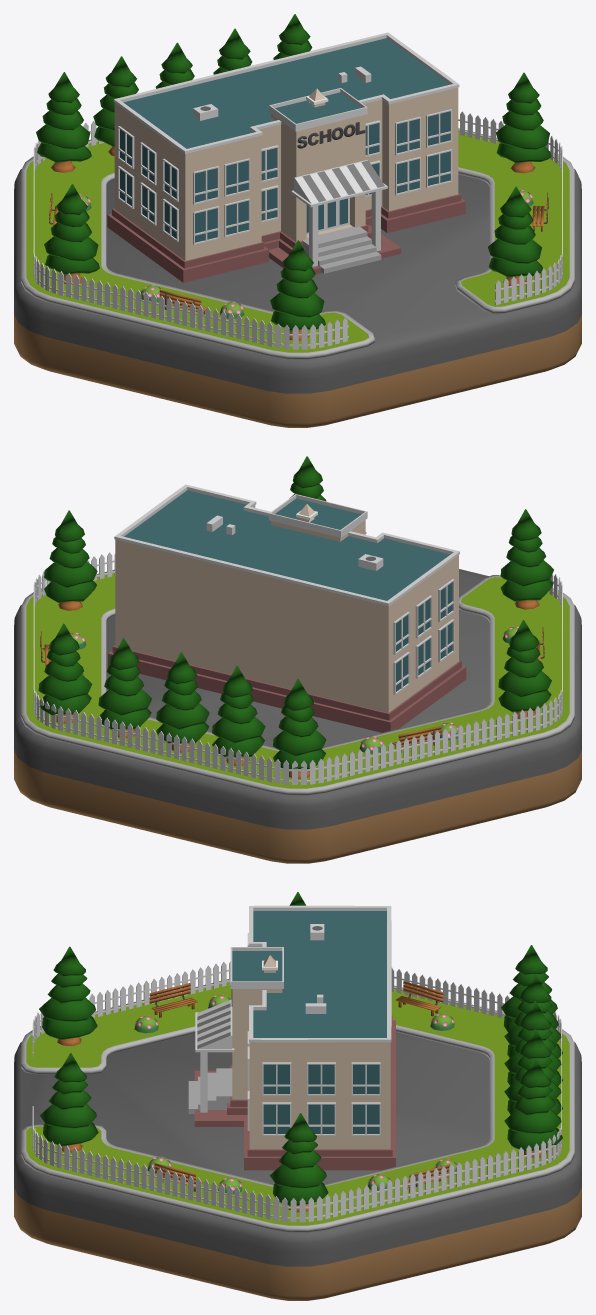
File: Meta 3.fbx
The picture shows the model from 3 angles, top to bottom: view 1: azimuth 30°, elevation 25°; view 2: azimuth 150°, elevation 25°; view 3: azimuth 270°, elevation 25°; orthographic projection.
Parts seen in each view (by area): view 1: Ground.005, Plane.008, Plane.007; view 2: Ground.005, Plane.008, Plane.007; view 3: Ground.005, Plane.008, Plane.007.
Part boxes in pixels (x1,y1,x2,y2): Ground.005: [14, 128, 581, 427]; Plane.008: [107, 32, 465, 282]; Plane.007: [33, 14, 562, 349]; Ground.005: [14, 569, 581, 863]; Plane.008: [108, 484, 466, 732]; Plane.007: [33, 456, 562, 784]; Ground.005: [14, 979, 581, 1300]; Plane.008: [188, 905, 395, 1170]; Plane.007: [32, 892, 562, 1222].
Size of the model in its own units: 642 by 244 by 576.
